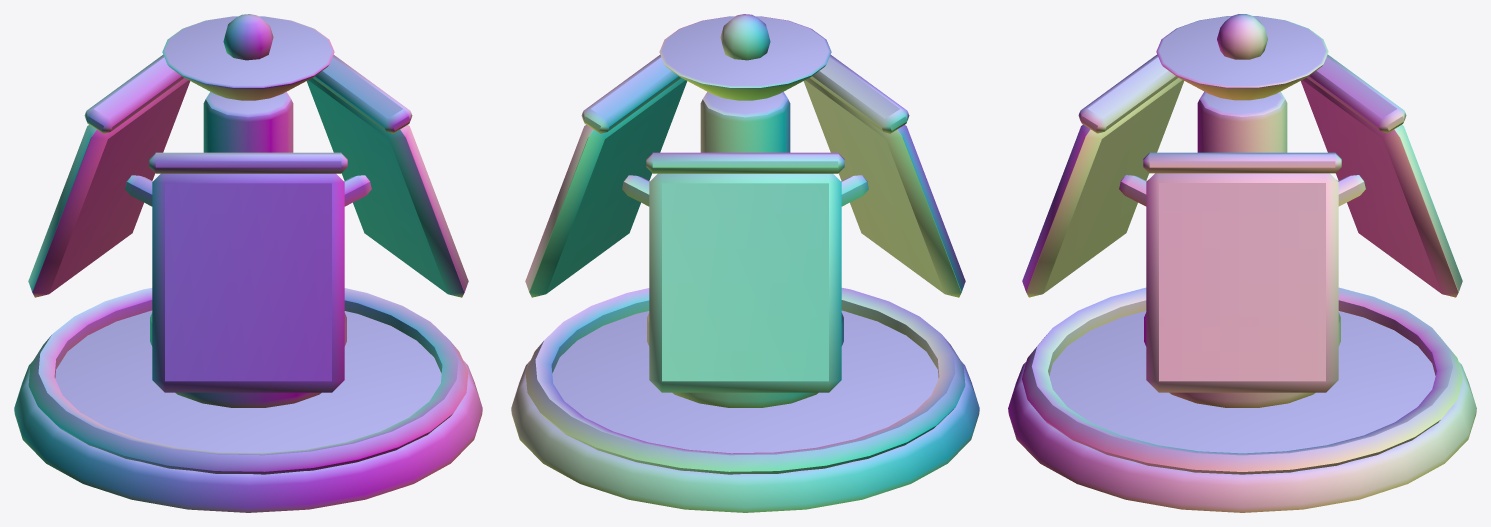
Rendered from gad_reflector.glb.
3 renders of one model, left to right at view 1: azimuth 30°, elevation 25°; view 2: azimuth 150°, elevation 25°; view 3: azimuth 270°, elevation 25°, orthographic.
Parts seen in each view (by area): view 1: reflector; view 2: reflector; view 3: reflector.
Part boxes in pixels (x1,y1,x2,y2): reflector: [14, 14, 482, 512]; reflector: [511, 14, 979, 512]; reflector: [1008, 14, 1476, 512].
Bounding box in the file's own units: 0.1464 × 0.138 × 0.1464.
